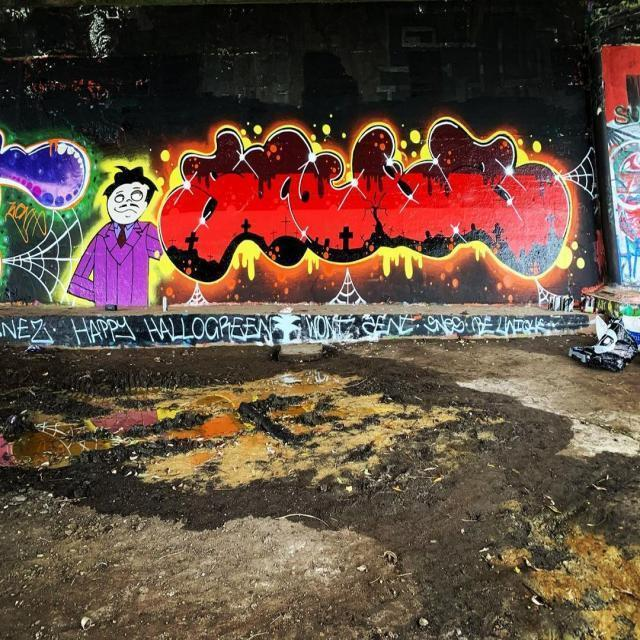nonspitting: (157, 119, 573, 288), (144, 316, 274, 342), (70, 316, 138, 348), (0, 317, 55, 345), (472, 316, 546, 333), (363, 316, 417, 336), (305, 317, 354, 339), (425, 316, 463, 334)
spitting: (66, 162, 163, 308)
